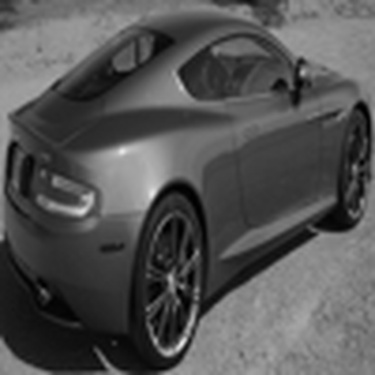car: (3, 4, 368, 371)
